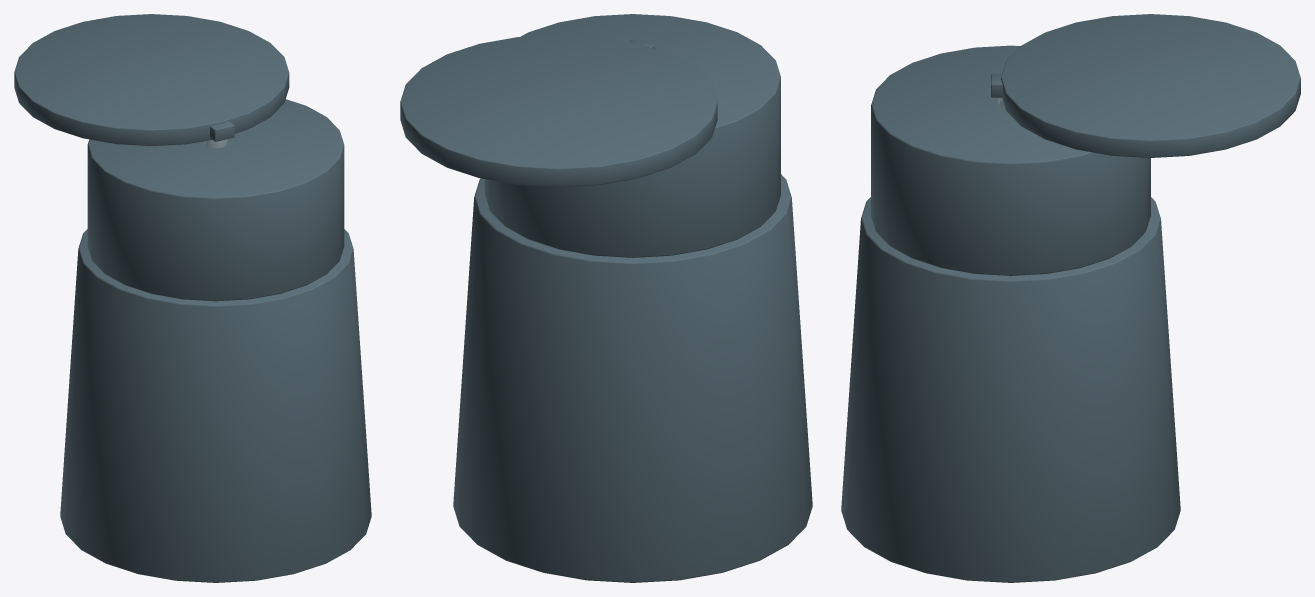
File: SM_IVO1M_CloudMeter.glb
The picture shows the model from 3 angles, left to right: view 1: azimuth 30°, elevation 25°; view 2: azimuth 150°, elevation 25°; view 3: azimuth 270°, elevation 25°; orthographic projection. The views are drawn at different scales.
Parts seen in each view (by area): view 1: SM_IVO1M_CloudMeter, Cover_Protective_Lid; view 2: SM_IVO1M_CloudMeter, Cover_Protective_Lid; view 3: SM_IVO1M_CloudMeter, Cover_Protective_Lid.
Boxes of the visible parts, x1,y1,x2,y2 form: SM_IVO1M_CloudMeter: (60,99,371,582); Cover_Protective_Lid: (14,14,289,145); SM_IVO1M_CloudMeter: (453,14,812,582); Cover_Protective_Lid: (400,34,717,187); SM_IVO1M_CloudMeter: (841,45,1180,582); Cover_Protective_Lid: (991,14,1300,157).
Size of the model in its own units: 0.6796 by 0.96 by 0.9198.
